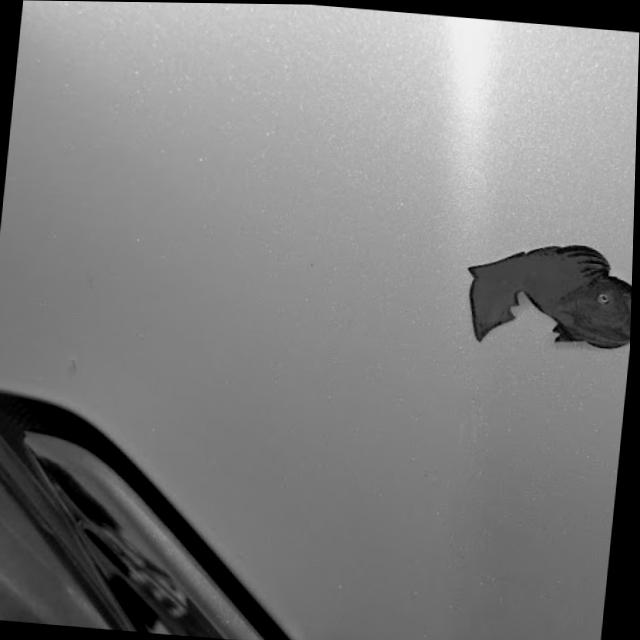Paint-fading: (454, 230, 632, 361)
